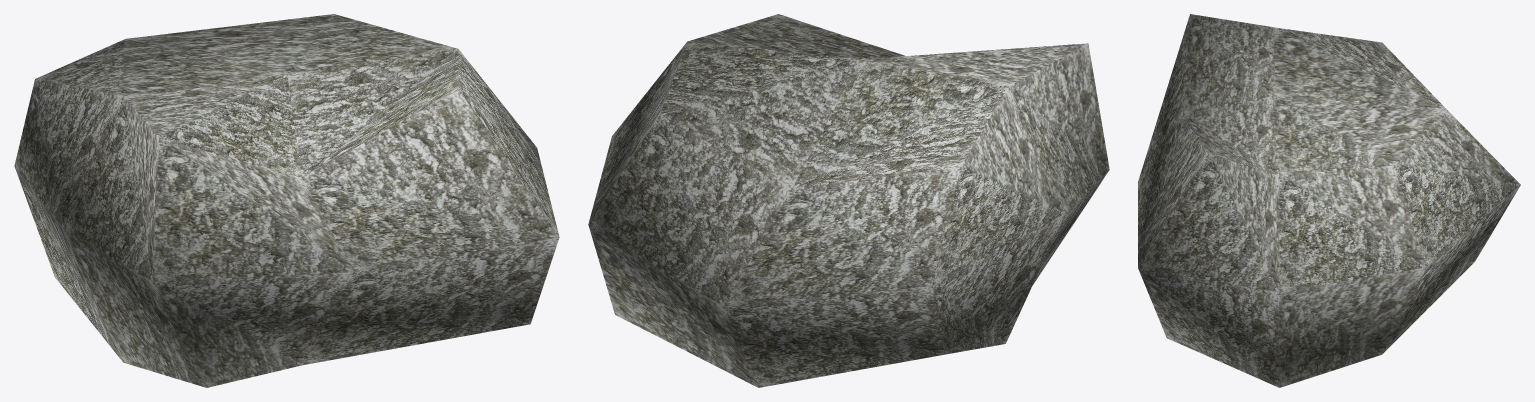
The model's file is piedra1.fbx.
The picture shows the model from 3 angles, left to right: view 1: azimuth 30°, elevation 25°; view 2: azimuth 150°, elevation 25°; view 3: azimuth 270°, elevation 25°; orthographic projection. The views are drawn at different scales.
Visible parts, largest first — view 1: Cube.005; view 2: Cube.005; view 3: Cube.005.
Part boxes in pixels (box(x1,y1,x2,y2)): Cube.005: box(14, 14, 559, 387); Cube.005: box(588, 14, 1109, 387); Cube.005: box(1138, 14, 1520, 387).
Bounding box in the file's own units: 71 × 43.94 × 66.65.
